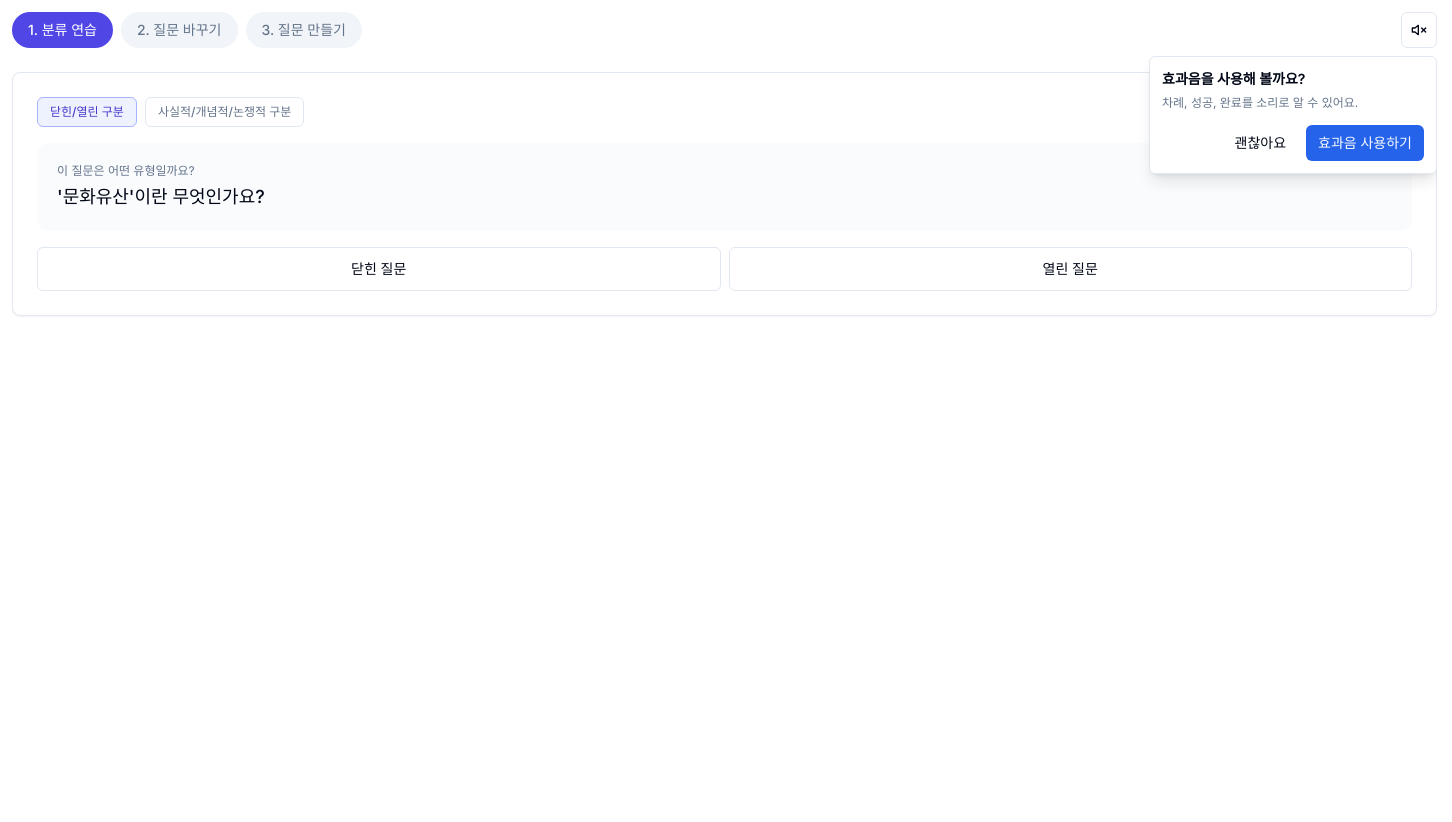
Test: 연습 질문 전달 › 초안 저장이 실패하면 입력을 유지하고 같은 화면에 오류를 표시한다
Click the tab "2. 질문 바꾸기": (179, 30) left=121, top=12, right=238, bottom=48
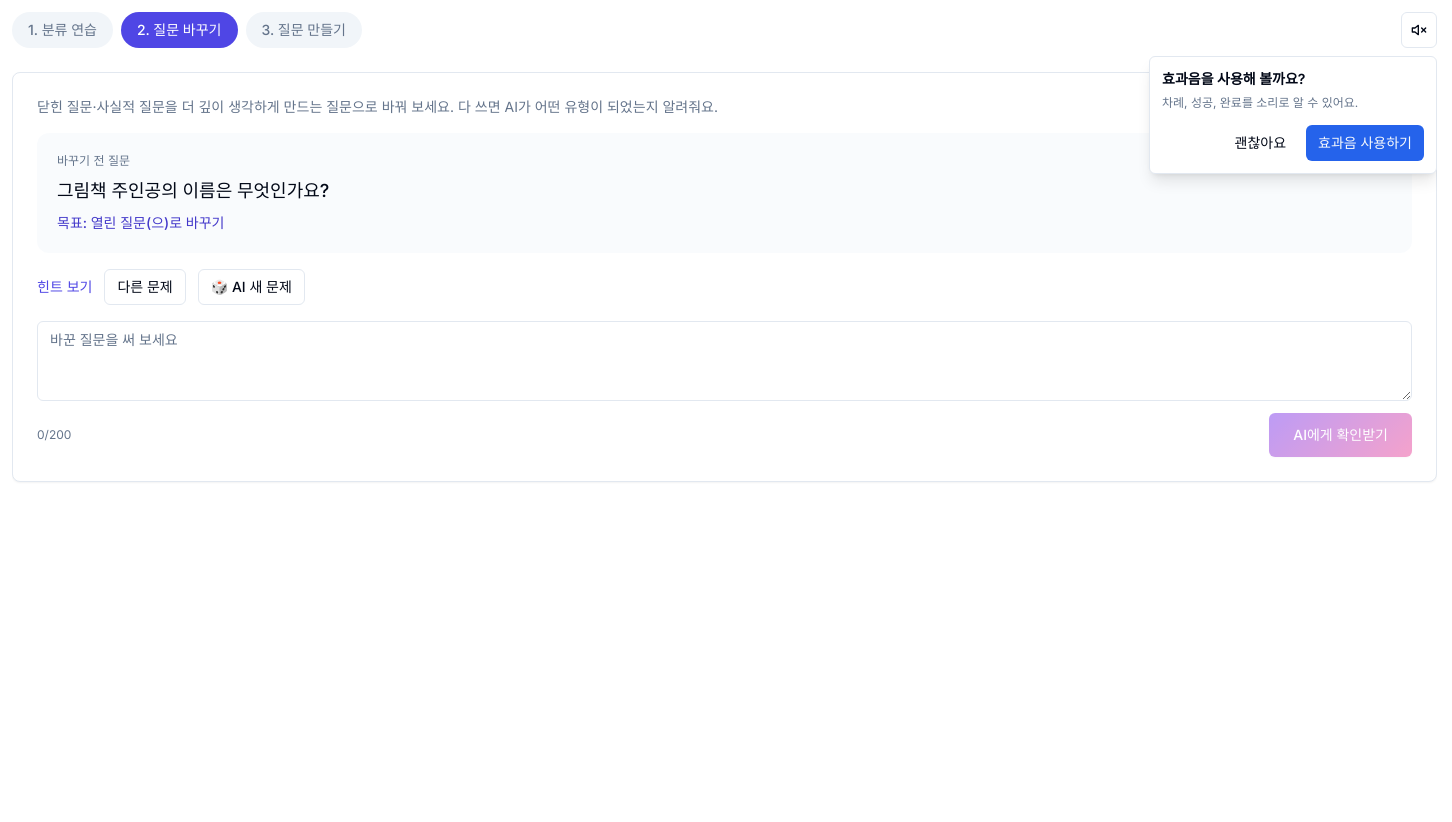
In the text box with placeholder "바꾼 질문을 써 보세요": (724, 361) left=37, top=321, right=1412, bottom=401, type "환경 보호를 위해 일회용품을 줄이면 어떤 변화가 생길까요?"
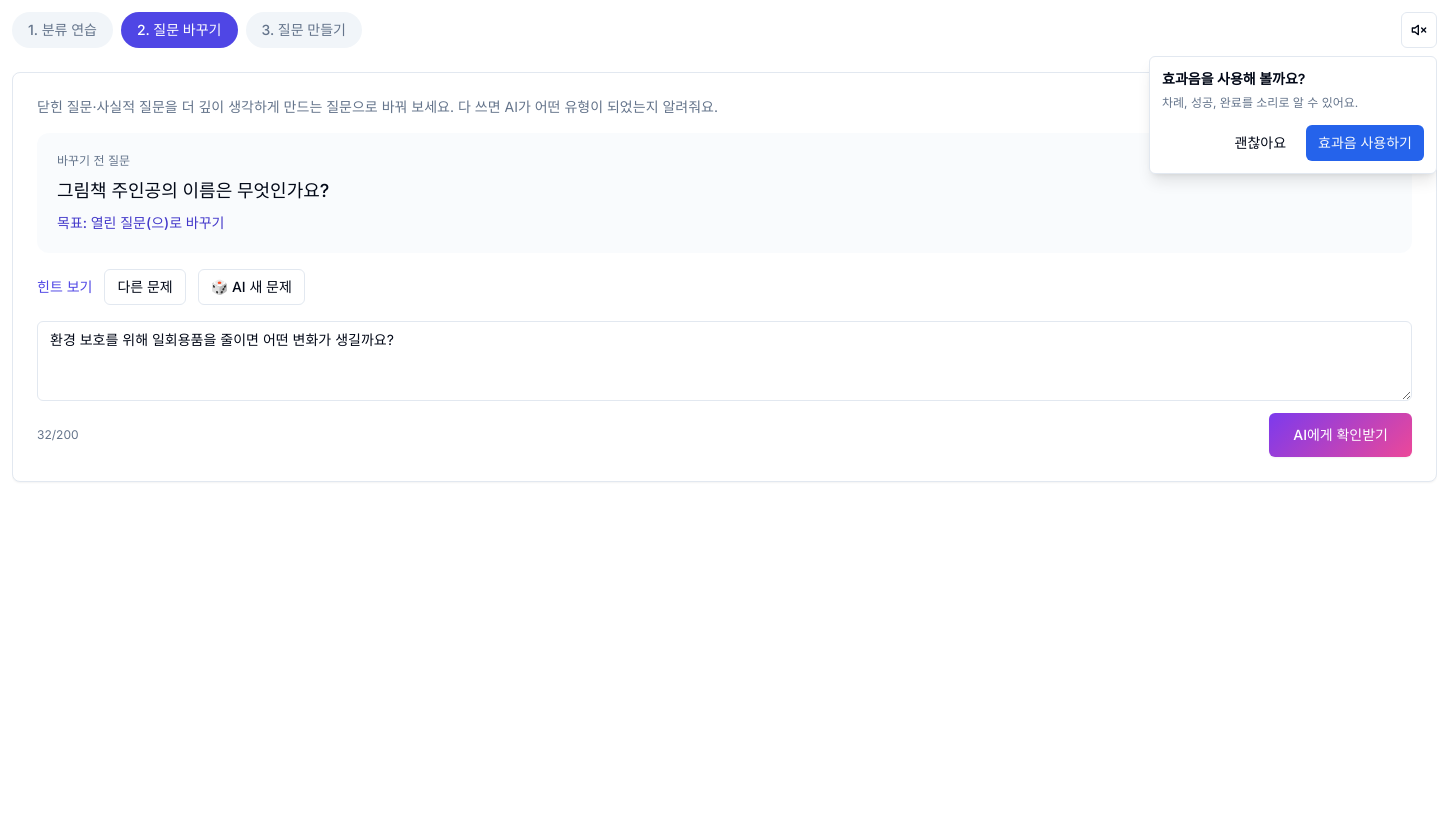
Click the button "AI에게 확인받기": (1341, 435) left=1269, top=413, right=1412, bottom=457
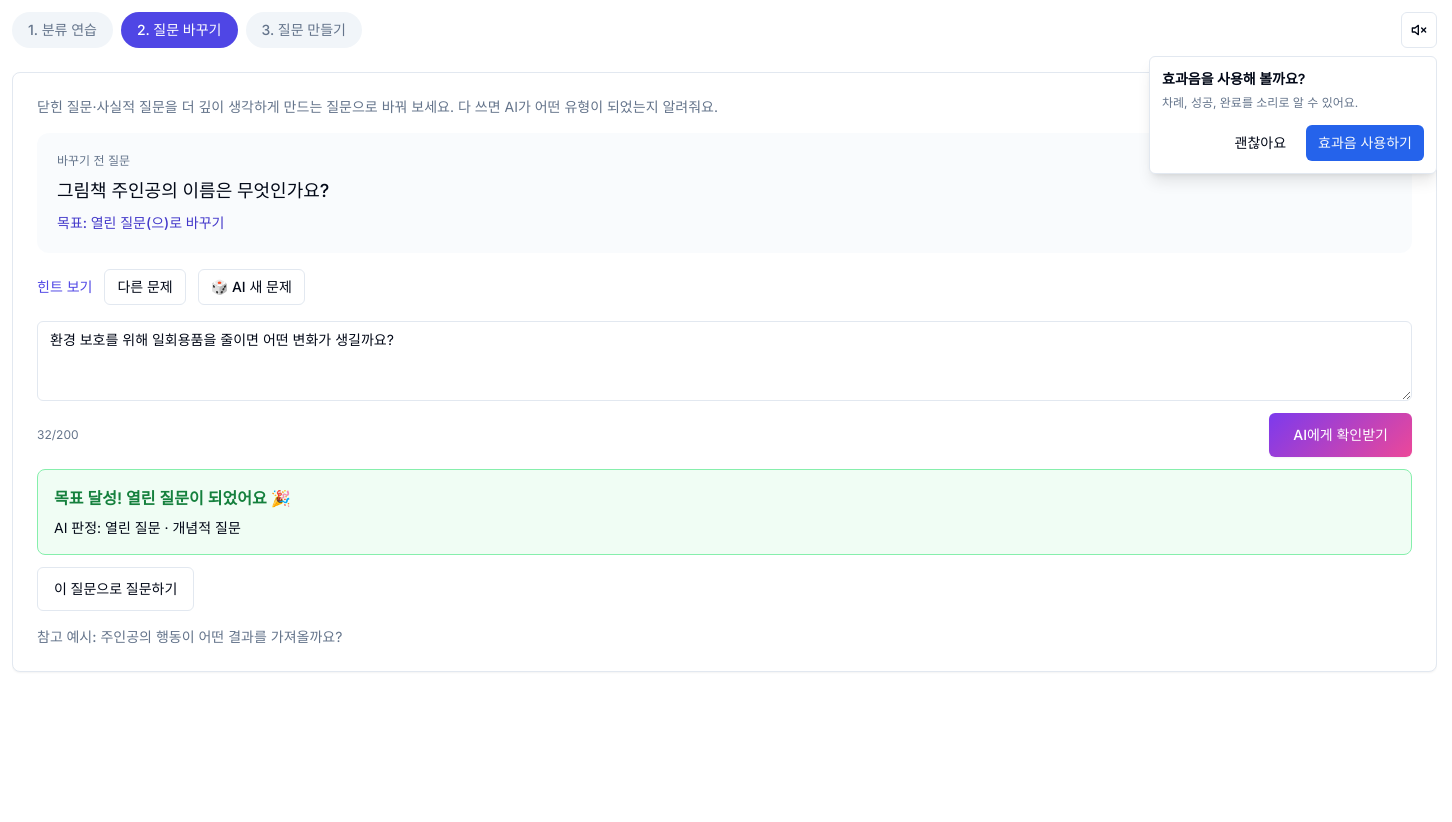
Now the text "목표 달성! 열린 질문이 되었어요 🎉" is shown, box left=54, top=488, right=291, bottom=508
Click the button "이 질문으로 질문하기": (116, 589) left=37, top=567, right=194, bottom=611
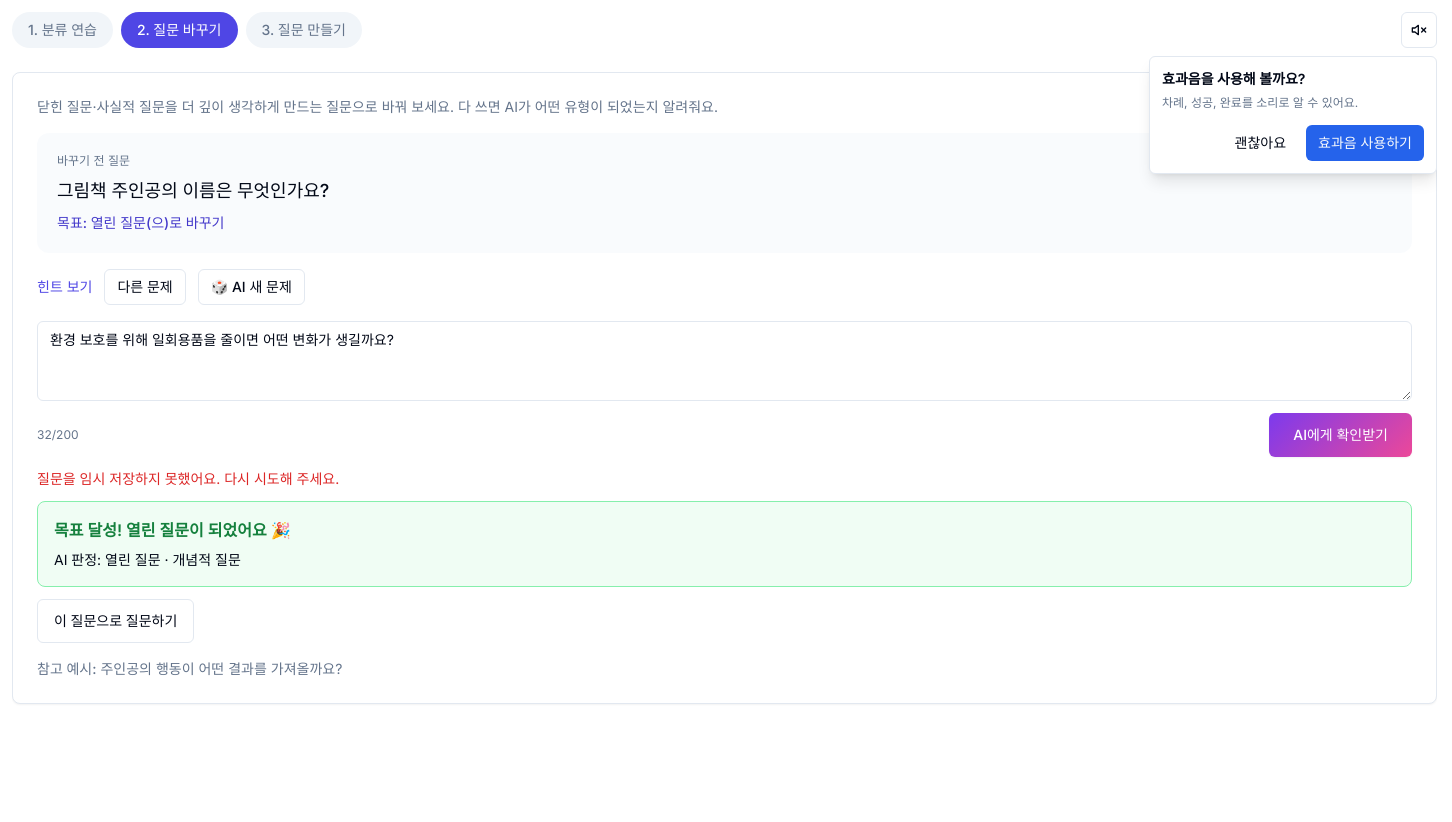
Now the text "질문을 임시 저장하지 못했어요. 다시 시도해 주세요." is shown, box left=37, top=470, right=339, bottom=487
